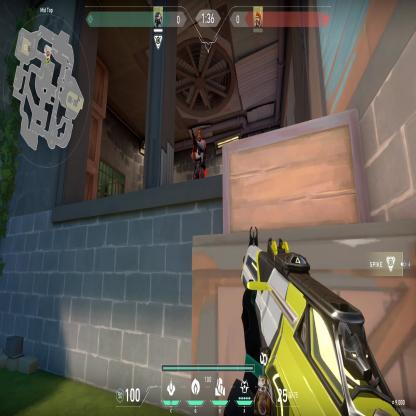enemy: (190, 127, 208, 182)
